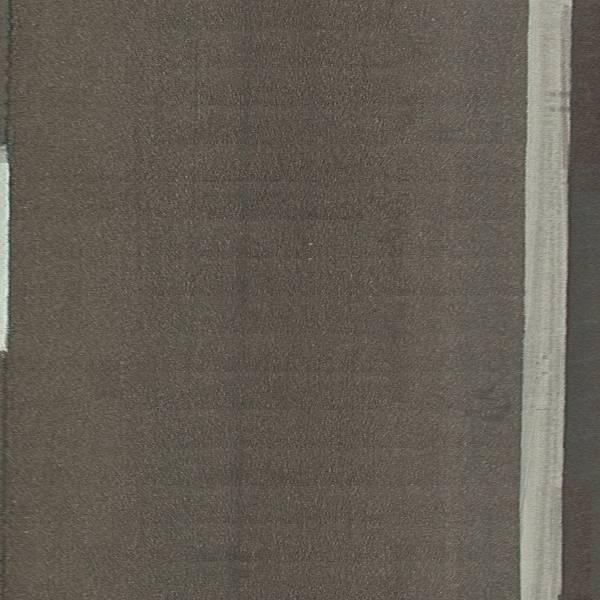road_damage: (470, 380, 514, 429)
